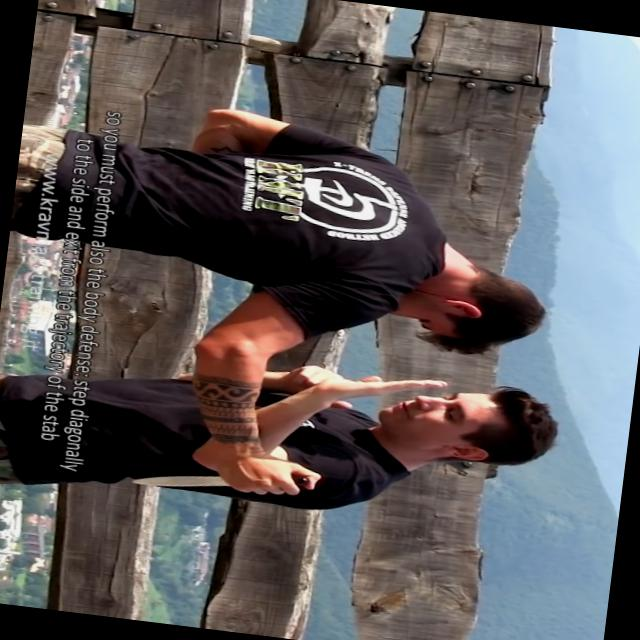knife: (127, 440, 324, 511)
